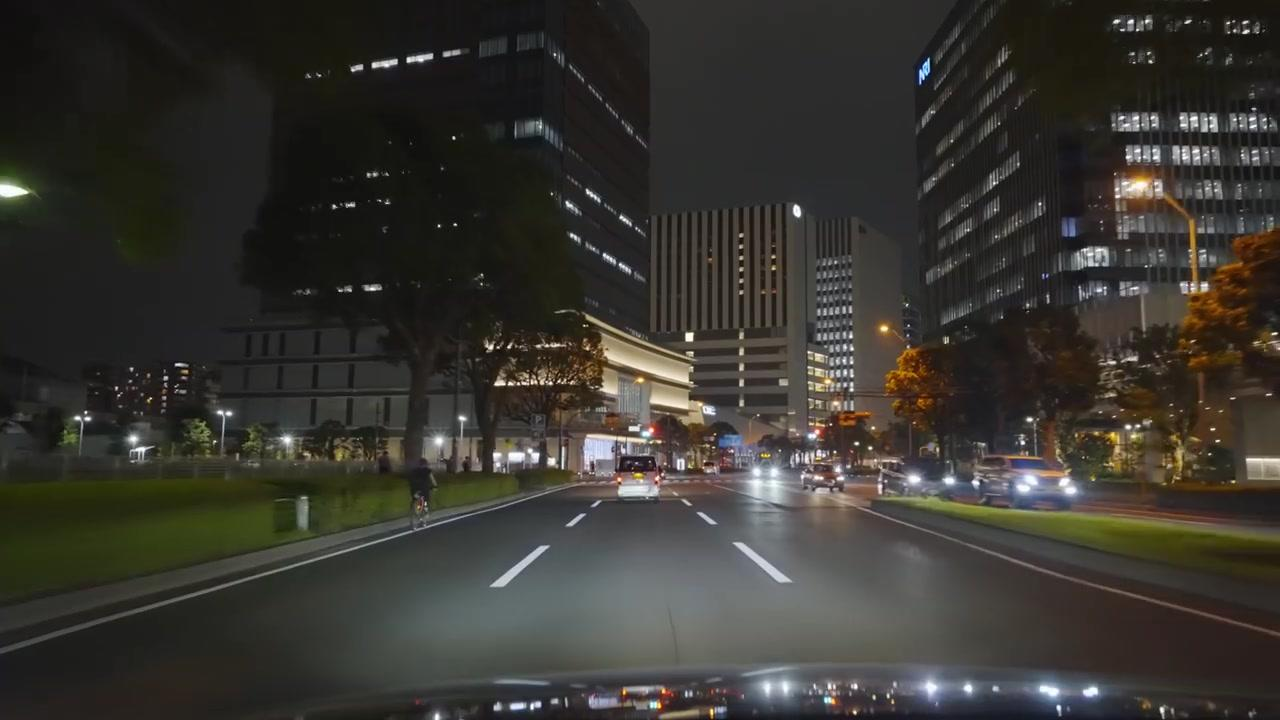bicycle: (410, 493, 430, 530)
bus: (615, 453, 660, 502)
car: (975, 455, 1078, 509), (880, 458, 954, 497), (616, 453, 660, 503), (800, 463, 846, 492)
person: (405, 455, 437, 524)
